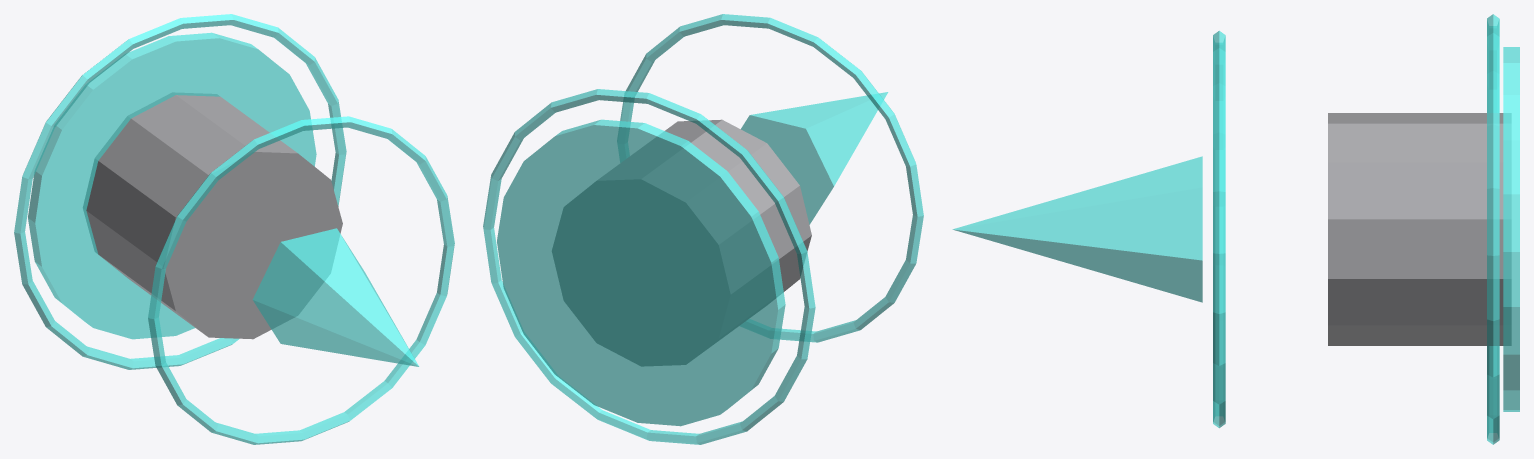
The model's file is 11_save_crystal.glb.
The picture shows the model from 3 angles, left to right: view 1: azimuth 30°, elevation 25°; view 2: azimuth 150°, elevation 25°; view 3: azimuth 270°, elevation 25°; orthographic projection. The views are drawn at different scales.
Visible parts, largest first — view 1: pedestal, base_disc, crystal, aura, base_ring; view 2: base_disc, pedestal, base_ring, aura, crystal; view 3: pedestal, crystal, base_disc, base_ring, aura.
Boxes of the visible parts, x1=… form: pedestal: x1=83, y1=92, x2=342, y2=339; base_disc: x1=28, y1=32, x2=316, y2=339; crystal: x1=252, y1=228, x2=419, y2=366; aura: x1=148, y1=116, x2=454, y2=444; base_ring: x1=14, y1=14, x2=346, y2=369; base_disc: x1=497, y1=119, x2=785, y2=426; pedestal: x1=552, y1=119, x2=811, y2=366; base_ring: x1=483, y1=89, x2=815, y2=444; aura: x1=617, y1=14, x2=923, y2=342; crystal: x1=741, y1=92, x2=888, y2=224; pedestal: x1=1328, y1=113, x2=1511, y2=345; crystal: x1=952, y1=156, x2=1202, y2=302; base_disc: x1=1503, y1=47, x2=1519, y2=411; base_ring: x1=1487, y1=14, x2=1499, y2=444; aura: x1=1213, y1=30, x2=1225, y2=428.
Size of the model in its own units: 1.3 by 1.3 by 1.7.
